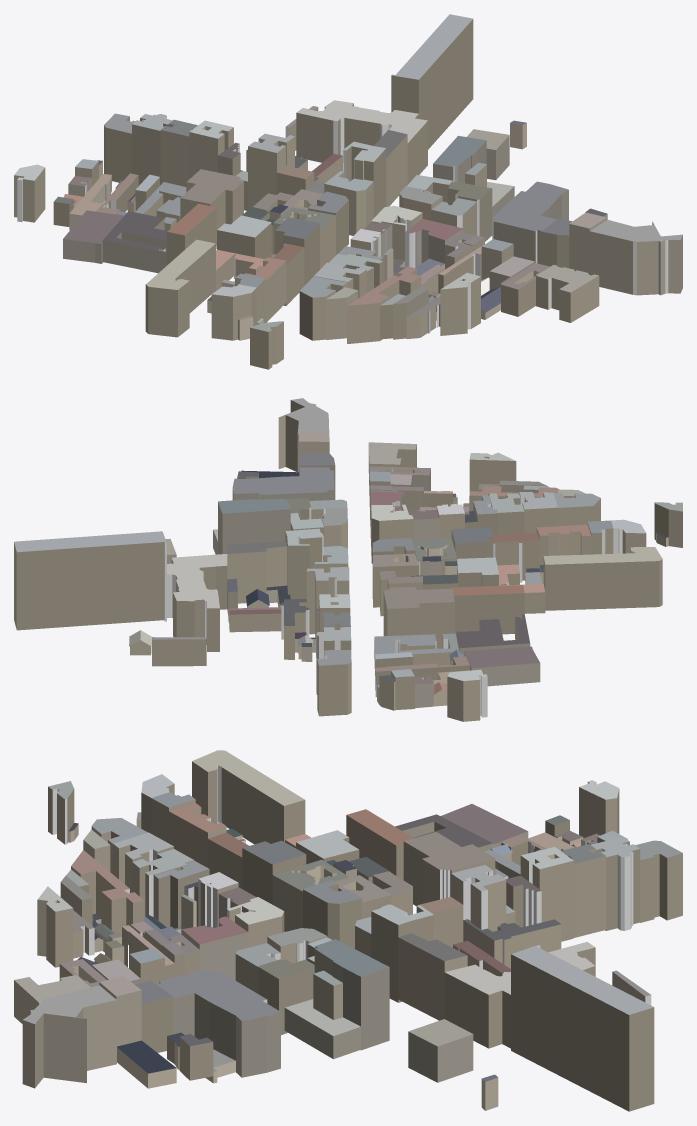
3 views of the same model, one above another, from view 1: azimuth 30°, elevation 25°; view 2: azimuth 150°, elevation 25°; view 3: azimuth 270°, elevation 25° (orthographic). The views are drawn at different scales.
Visible parts, largest first — view 1: tuile; view 2: tuile; view 3: tuile.
Boxes of the visible parts, bbox=[...] form: tuile: bbox=[14, 14, 682, 369]; tuile: bbox=[14, 398, 682, 721]; tuile: bbox=[14, 750, 682, 1111].
Size of the model in its own units: 279 by 45.49 by 271.
